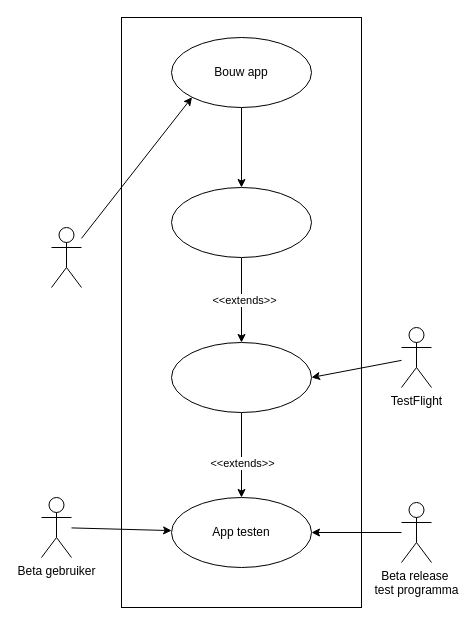
Some shapes in this 475 by 625 pixel diagram are drawn without their labels. Each missing label, with the box of its shape:
Ontwikkelaar: (50, 226, 82, 288)
Publiceert naar gebruikers: (170, 342, 312, 412)
Released app als beta: (170, 186, 312, 258)
